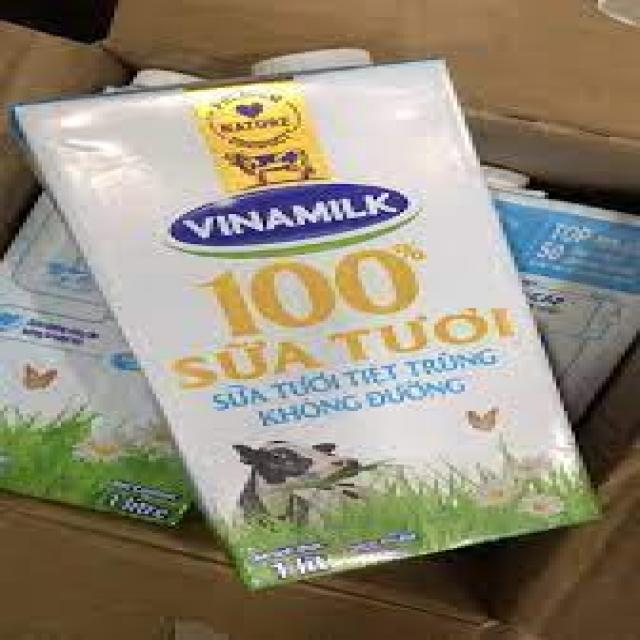non_white_jug: (8, 42, 621, 602)
